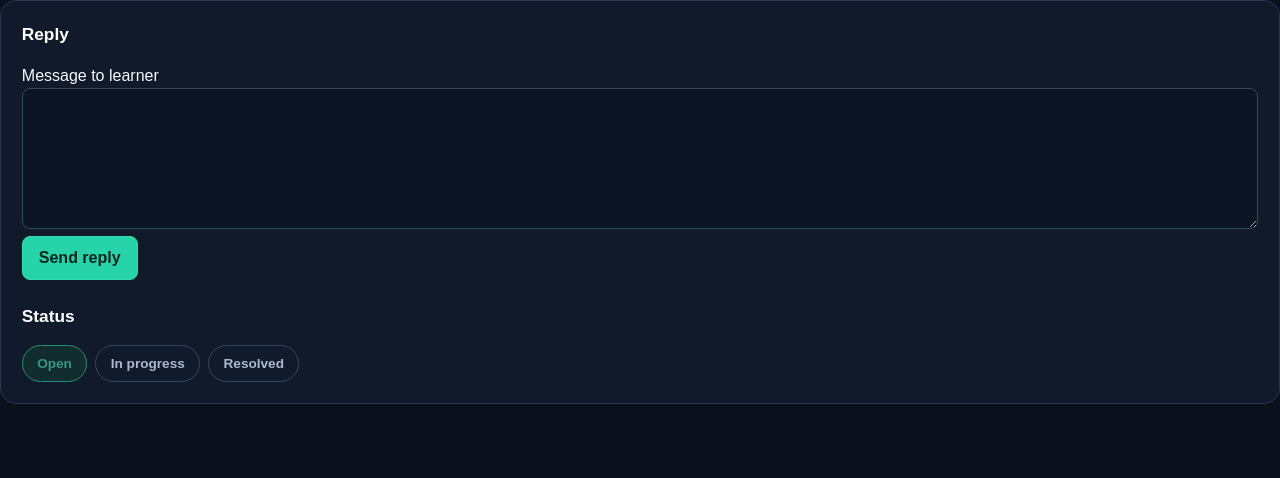
Scenario: SupportTicketPanel › surfaces a failed reply as an alert
Type "Hello" into the text box labelled "Message to learner". click: (640,158)
box: [22, 88, 1258, 229]
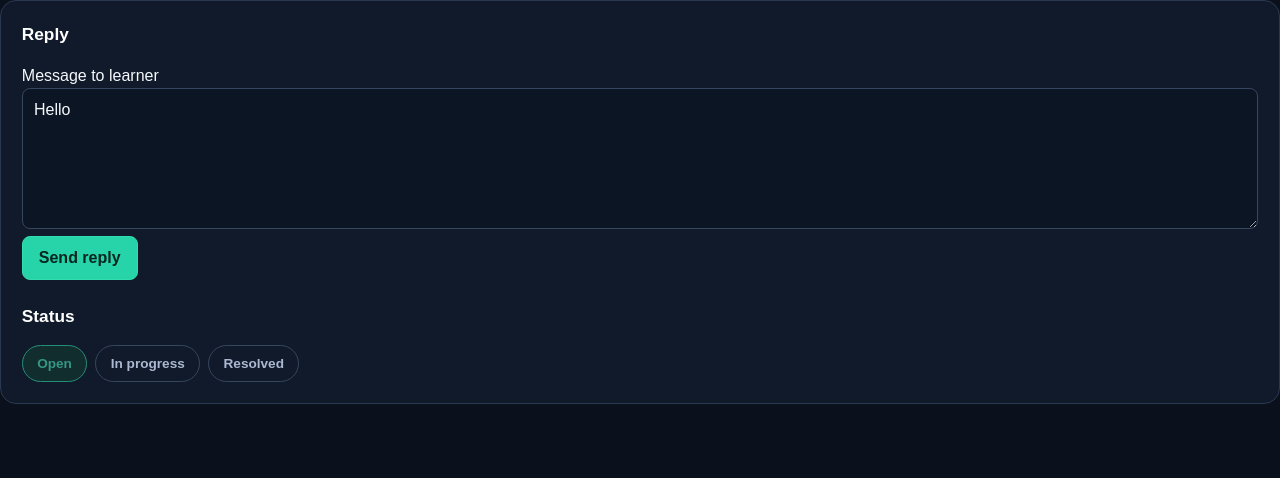
Click the button "Send reply". click: (80,258)
box: [22, 236, 138, 280]
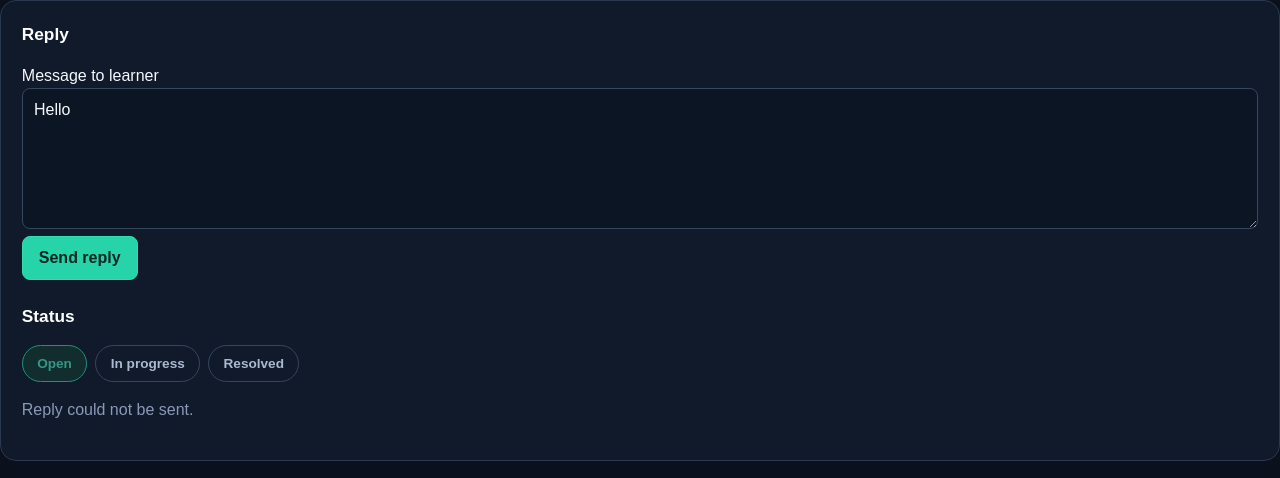
Result: the message shows "could not be sent" at [22, 401, 194, 418]
